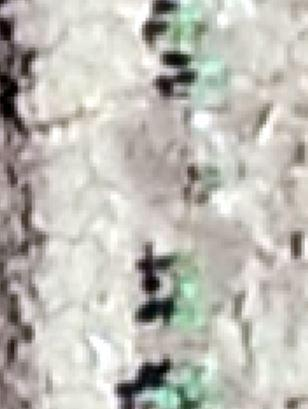cotton: (181, 371, 205, 401), (197, 59, 223, 82), (174, 274, 200, 296), (154, 387, 181, 407), (171, 22, 197, 41), (193, 90, 218, 107), (171, 307, 197, 323), (181, 6, 202, 25), (174, 257, 195, 270)
